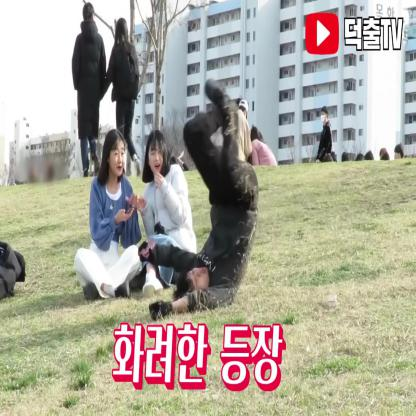Fall_Down: (137, 74, 261, 323)
